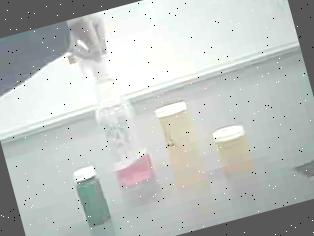Bottle A: (150, 90, 222, 204)
Bottle B: (210, 112, 264, 185)
Bottle C: (70, 157, 125, 236)
hazard: (68, 38, 165, 198)
